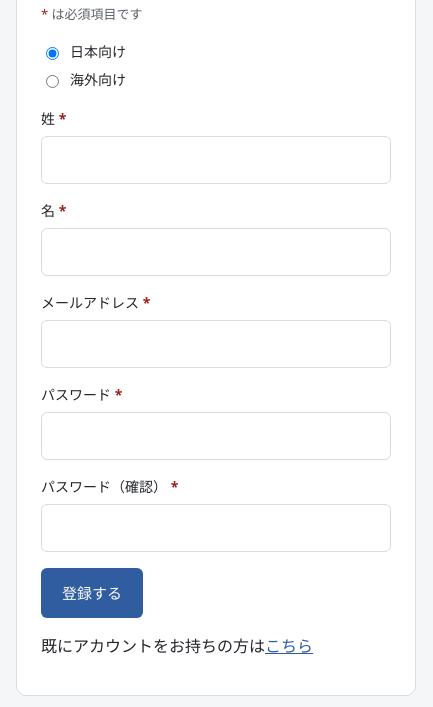
Test: RegisterPage › 未入力項目があると姓名の入力を促すエラーメッセージを表示する(デフォルトは日本向け)
This screenshot has width=433, height=707.
(page scrolled)
Click the button "登録する". click: (92, 593)
box: x1=41 y1=568 x2=143 y2=618
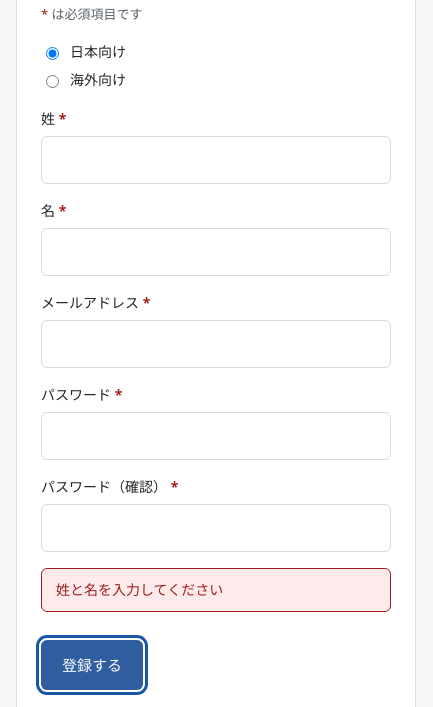
Expected: the message reads "姓と名を入力してください", x1=56 y1=580 x2=223 y2=599
